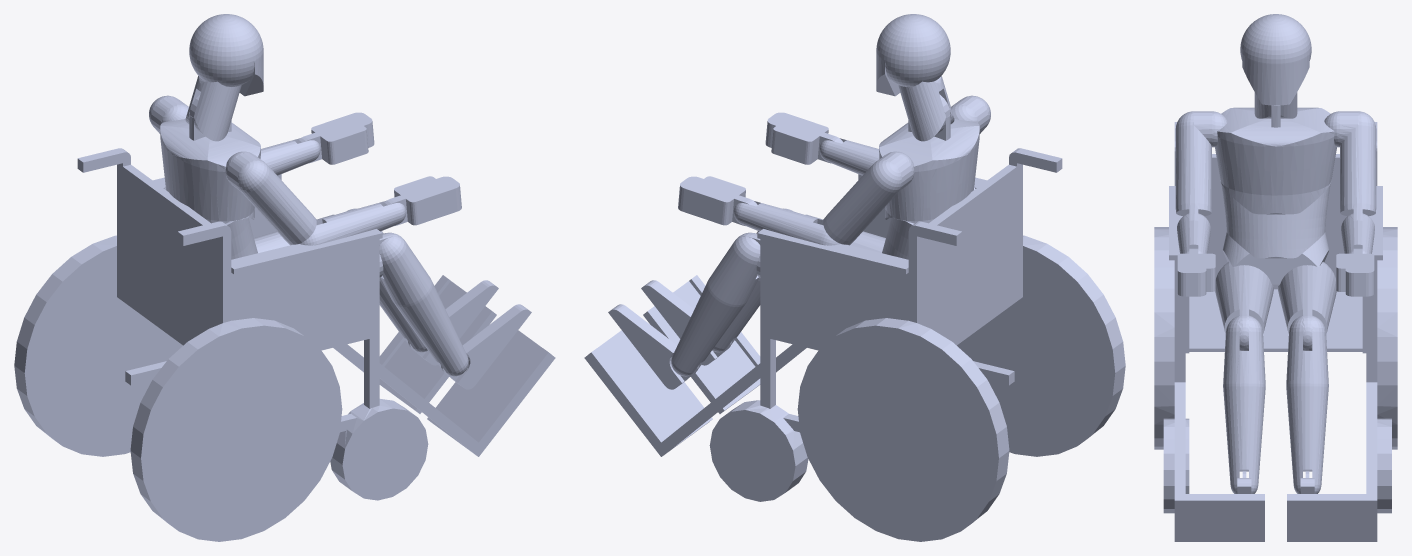
File: wheelchair_and_body_assembly.dae
3 views of the same model, side by side, from view 1: azimuth 30°, elevation 25°; view 2: azimuth 150°, elevation 25°; view 3: azimuth 270°, elevation 25° (orthographic). The views are drawn at different scales.
Visible parts, largest first — view 1: base_link, body_y_move_link, head_center; view 2: base_link, body_y_move_link, head_center; view 3: body_y_move_link, base_link, head_center.
Boxes of the visible parts, x1,y1,x2,y2 form: base_link: [14, 148, 555, 541]; body_y_move_link: [149, 76, 531, 389]; head_center: [189, 14, 263, 96]; base_link: [584, 148, 1125, 541]; body_y_move_link: [608, 76, 990, 389]; head_center: [876, 14, 950, 96]; body_y_move_link: [1175, 92, 1376, 493]; base_link: [1154, 122, 1397, 541]; head_center: [1240, 14, 1311, 105].
Size of the model in its own units: 1.32 by 0.665 by 1.34.
